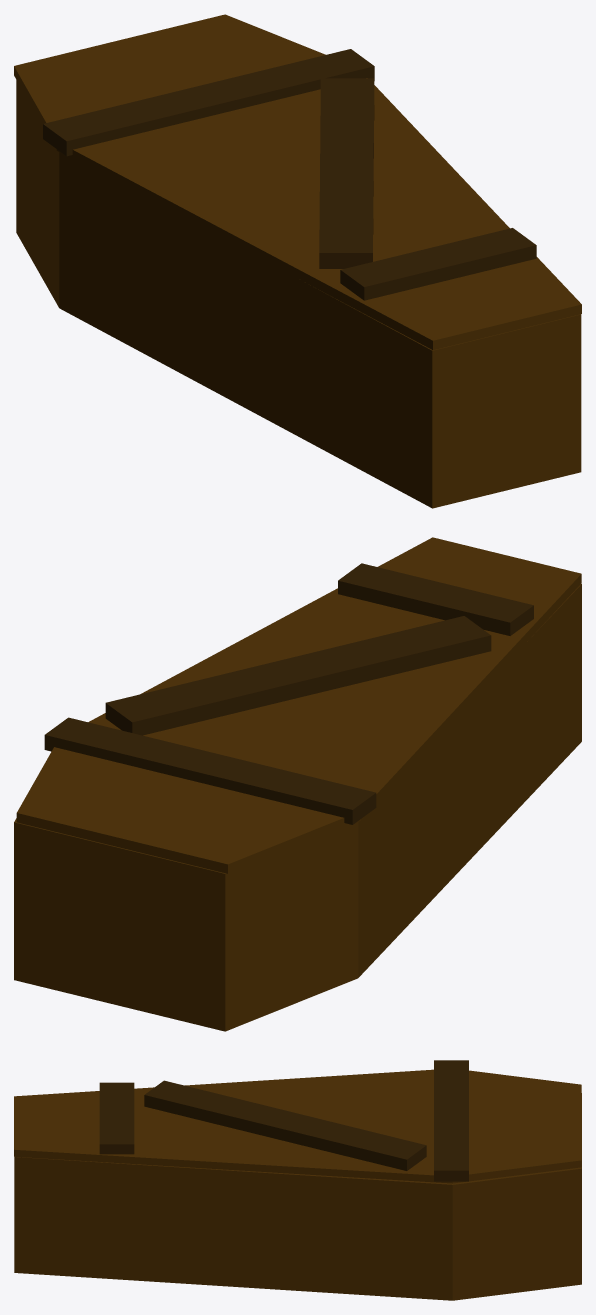
File: Coffin.fbx
3 renders of one model, top to bottom at view 1: azimuth 30°, elevation 25°; view 2: azimuth 150°, elevation 25°; view 3: azimuth 270°, elevation 25°, orthographic. The views are drawn at different scales.
Parts seen in each view (by area): view 1: Cube.001, Cube; view 2: Cube.001, Cube; view 3: Cube, Cube.001.
Part boxes in pixels (x1,y1,x2,y2): Cube.001: (14,14,581,349); Cube: (16,80,581,508); Cube.001: (16,537,581,873); Cube: (14,583,581,1031); Cube: (14,1093,581,1300); Cube.001: (14,1060,581,1183).
Size of the model in its own units: 204 by 116 by 444.
